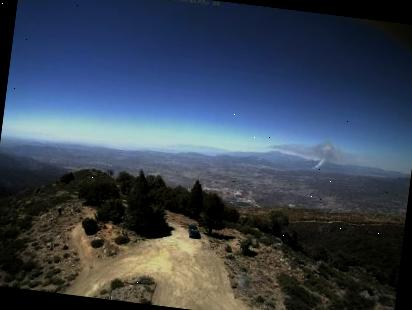smoke: (266, 133, 358, 177)
